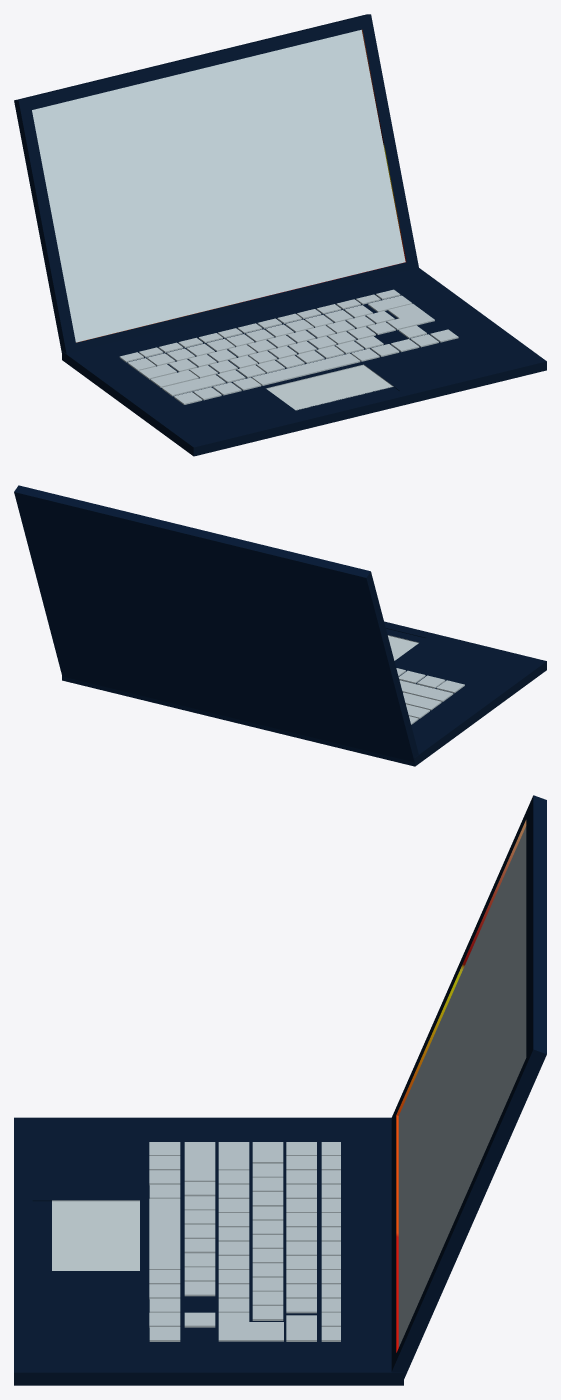
Rendered from SM_Env_Laptop.fbx.
3 views of the same model, one above another, from view 1: azimuth 30°, elevation 25°; view 2: azimuth 150°, elevation 25°; view 3: azimuth 270°, elevation 25° (orthographic). The views are drawn at different scales.
Visible parts, largest first — view 1: SM_Env_Laptop; view 2: SM_Env_Laptop; view 3: SM_Env_Laptop.
Part boxes in pixels (x1,y1,x2,y2): SM_Env_Laptop: [14, 14, 546, 456]; SM_Env_Laptop: [14, 485, 546, 766]; SM_Env_Laptop: [14, 795, 546, 1385].
Bounding box in the file's own units: 0.3499 × 0.2152 × 0.3093.
